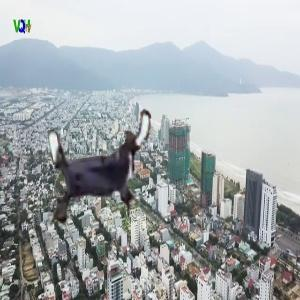drone: (34, 104, 166, 236)
